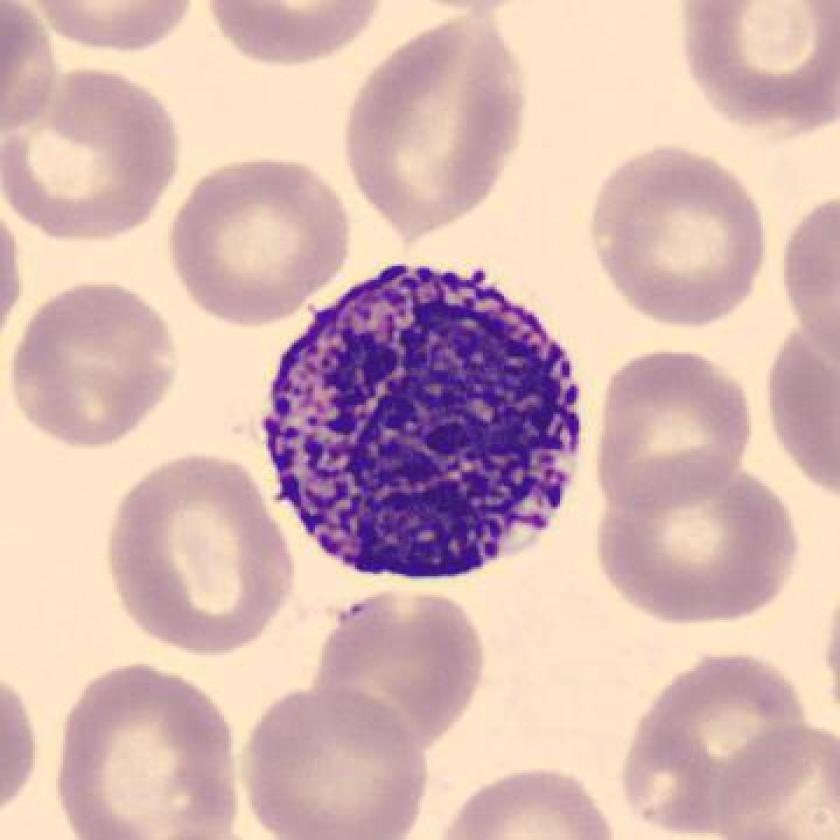basophil: (260, 254, 577, 601)
